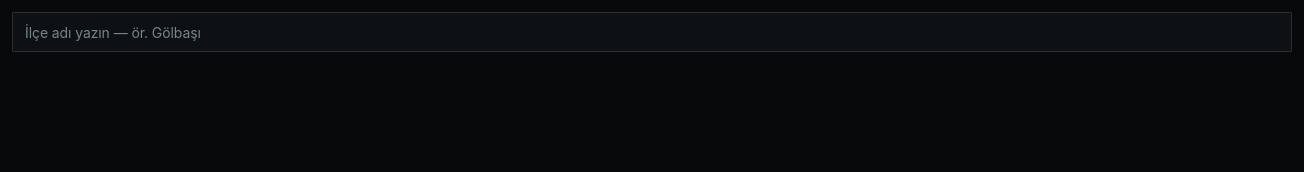
Test: LocationTypeahead › seçim İL VE İLÇEYİ birlikte bildiriyor
This screenshot has width=1304, height=172.
Later steps or results of the test are not shown.
Step 1. Type "çankaya" into the search field → (652, 32), box [12, 12, 1292, 52]
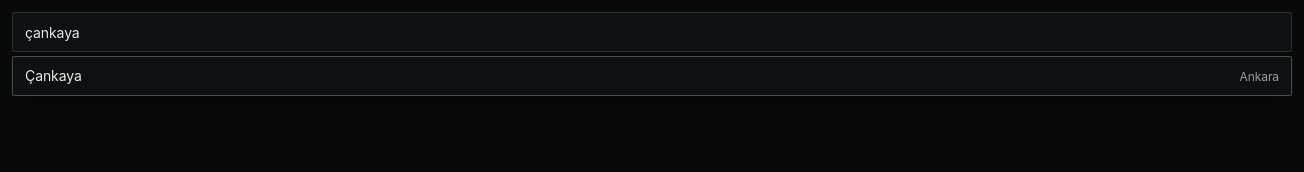
Check: the text "Çankaya" is shown, box [25, 67, 82, 84]
